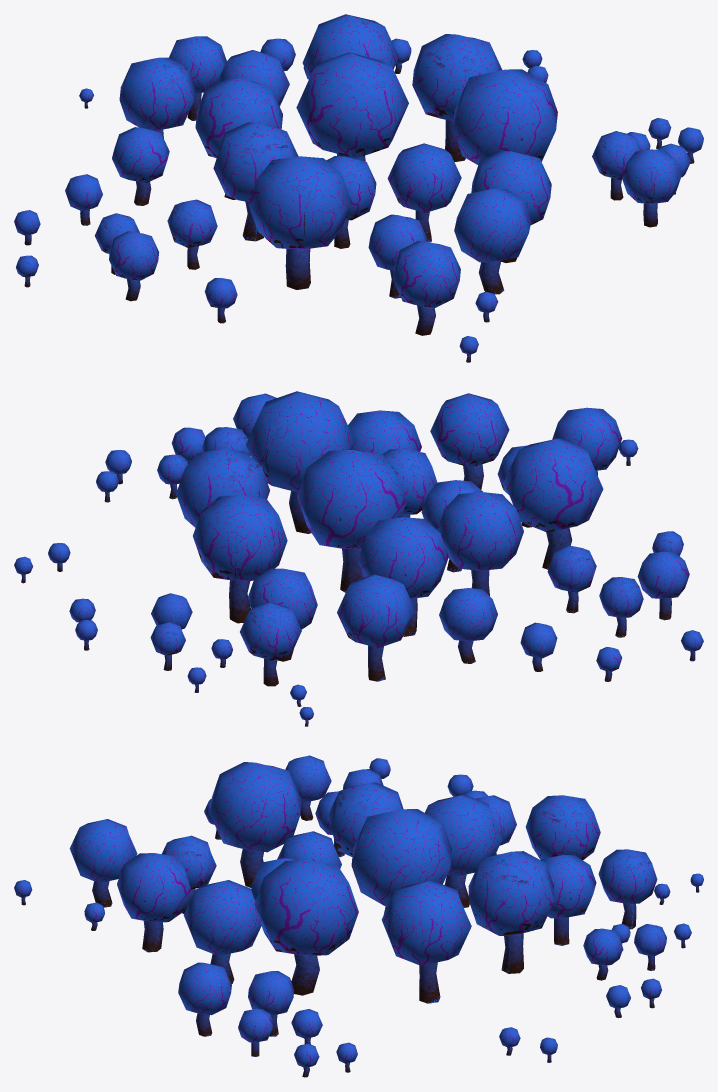
File: bleuet.fbx
The picture shows the model from 3 angles, top to bottom: view 1: azimuth 30°, elevation 25°; view 2: azimuth 150°, elevation 25°; view 3: azimuth 270°, elevation 25°; orthographic projection. The views are drawn at different scales.
Visible parts, largest first — view 1: bleuet_LOD0; view 2: bleuet_LOD0; view 3: bleuet_LOD0.
Part boxes in pixels (box(x1,y1,x2,y2)): bleuet_LOD0: box(14, 14, 703, 362); bleuet_LOD0: box(14, 391, 703, 726); bleuet_LOD0: box(14, 755, 703, 1077).
Size of what is drawn, in the model's own units: 1256 by 281 by 1226.
